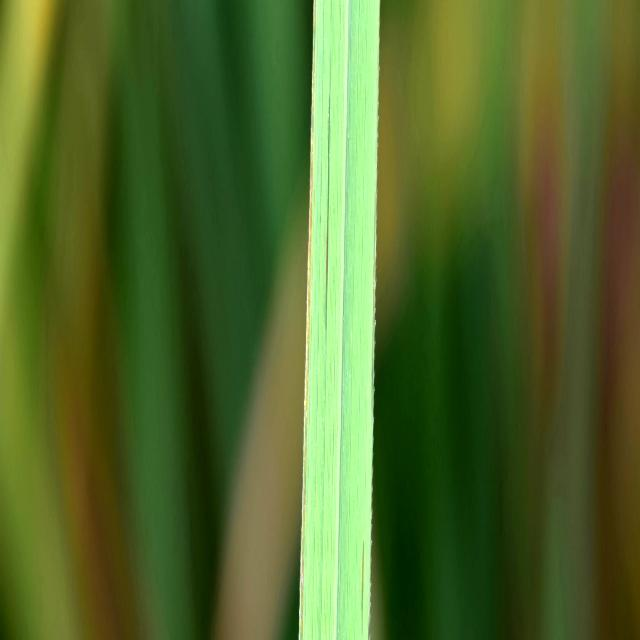BLS: (299, 0, 316, 640), (325, 102, 329, 318), (361, 543, 363, 609)
